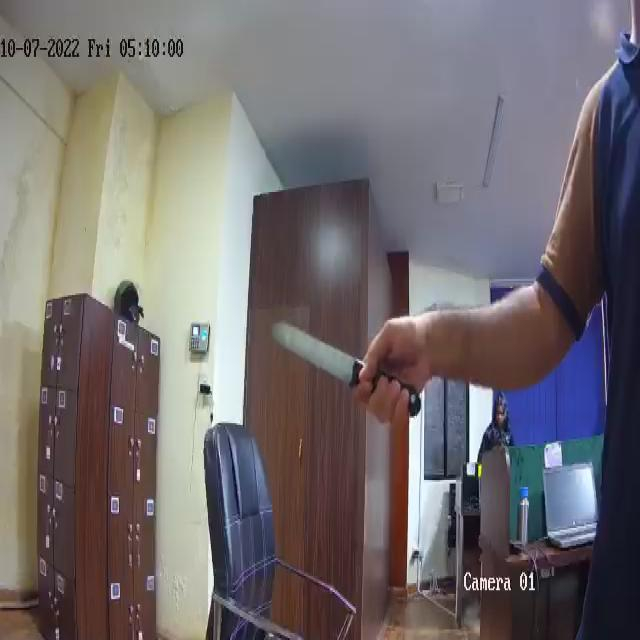Knife: (267, 316, 422, 426)
